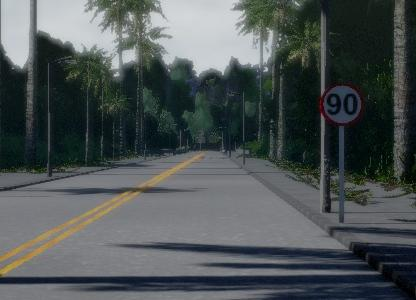Speed_90: (318, 80, 366, 129)
